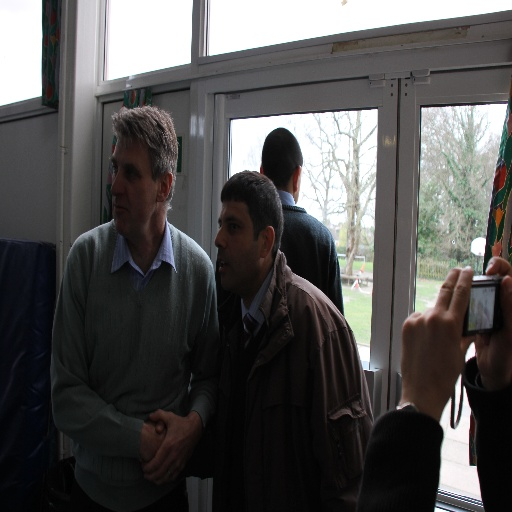hand: (390, 268, 468, 432), (474, 254, 511, 386), (138, 406, 195, 489), (144, 423, 167, 460), (153, 422, 165, 436)
